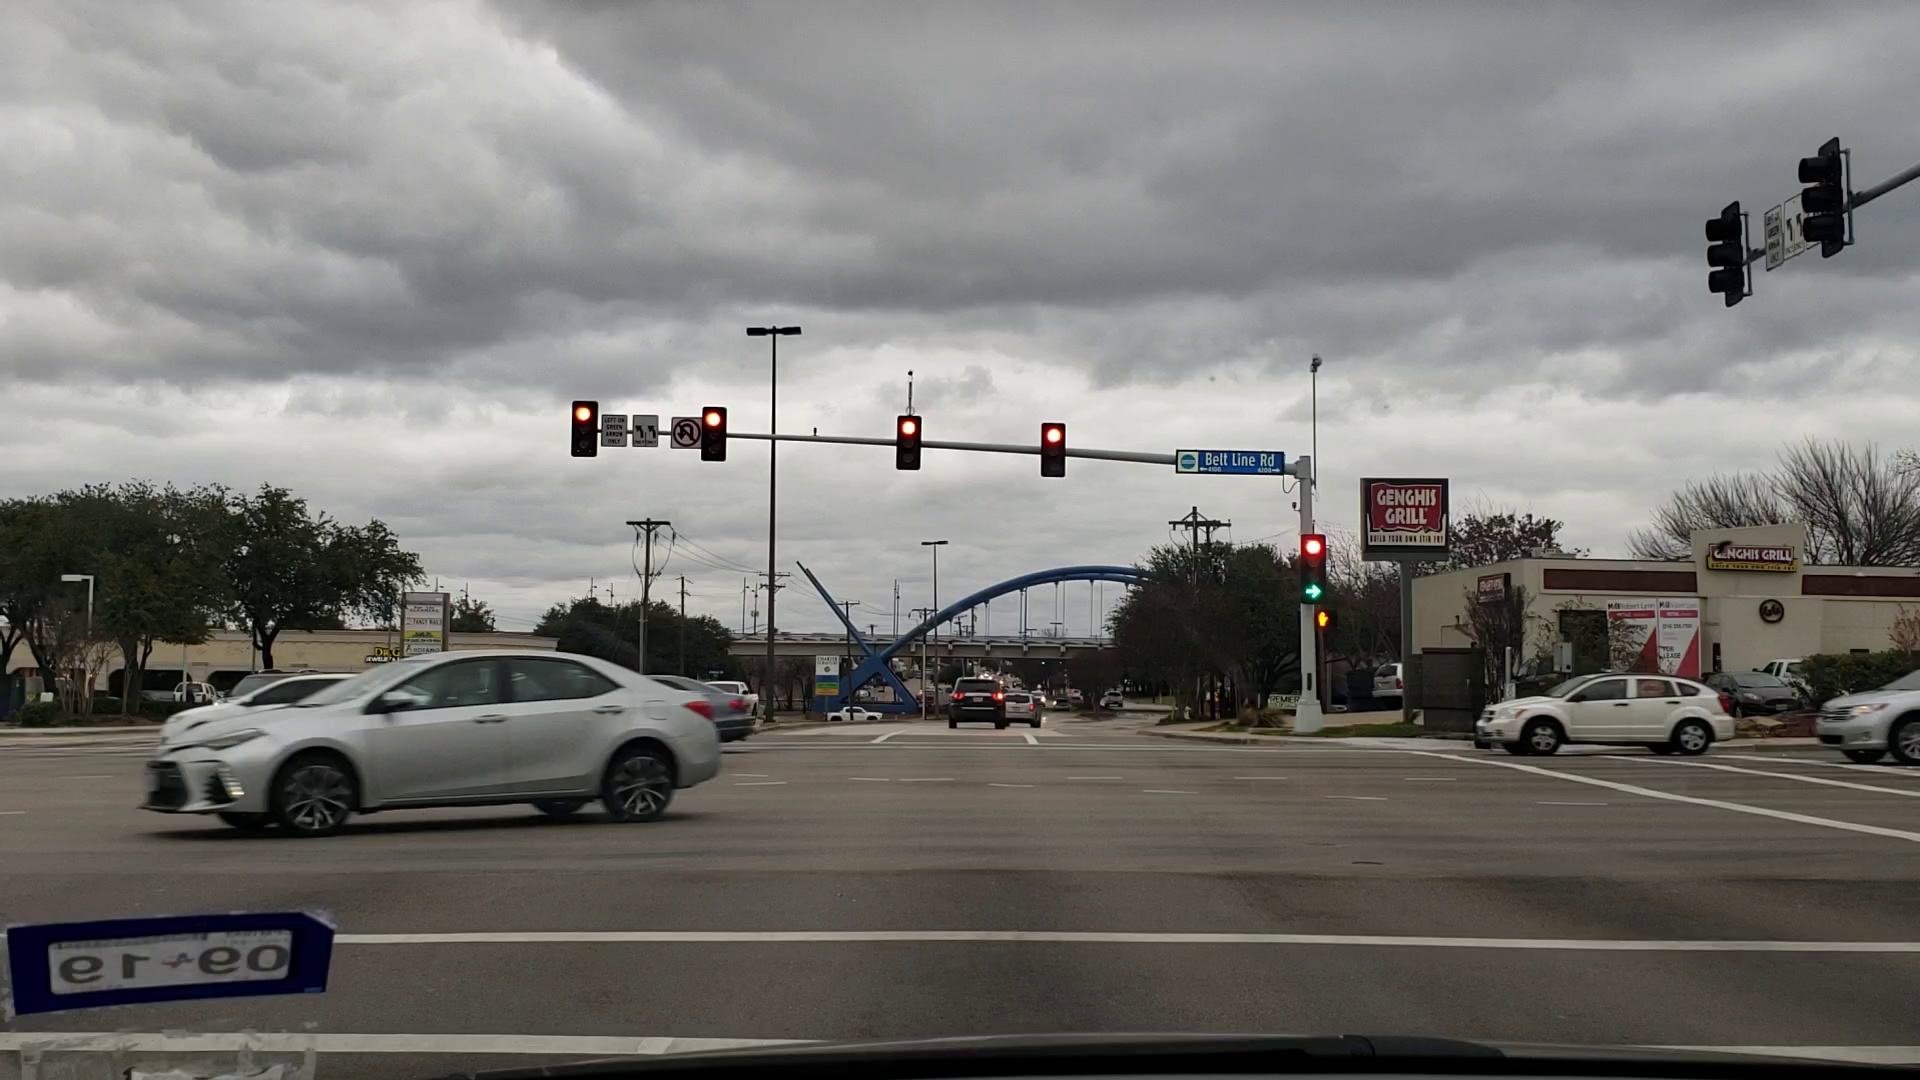car: (146, 647, 727, 847), (1472, 659, 1735, 765), (171, 673, 431, 738), (1809, 650, 1920, 758), (644, 663, 752, 752), (1709, 661, 1797, 713), (951, 667, 1013, 732), (164, 676, 228, 712), (713, 670, 761, 715), (1366, 658, 1415, 698), (1007, 682, 1043, 727), (832, 702, 881, 731), (1105, 686, 1133, 715)
traffic light: (1702, 208, 1747, 302), (1797, 156, 1842, 248), (898, 411, 924, 469), (574, 402, 600, 458), (1039, 421, 1063, 477), (1304, 534, 1321, 603), (704, 407, 724, 462)
